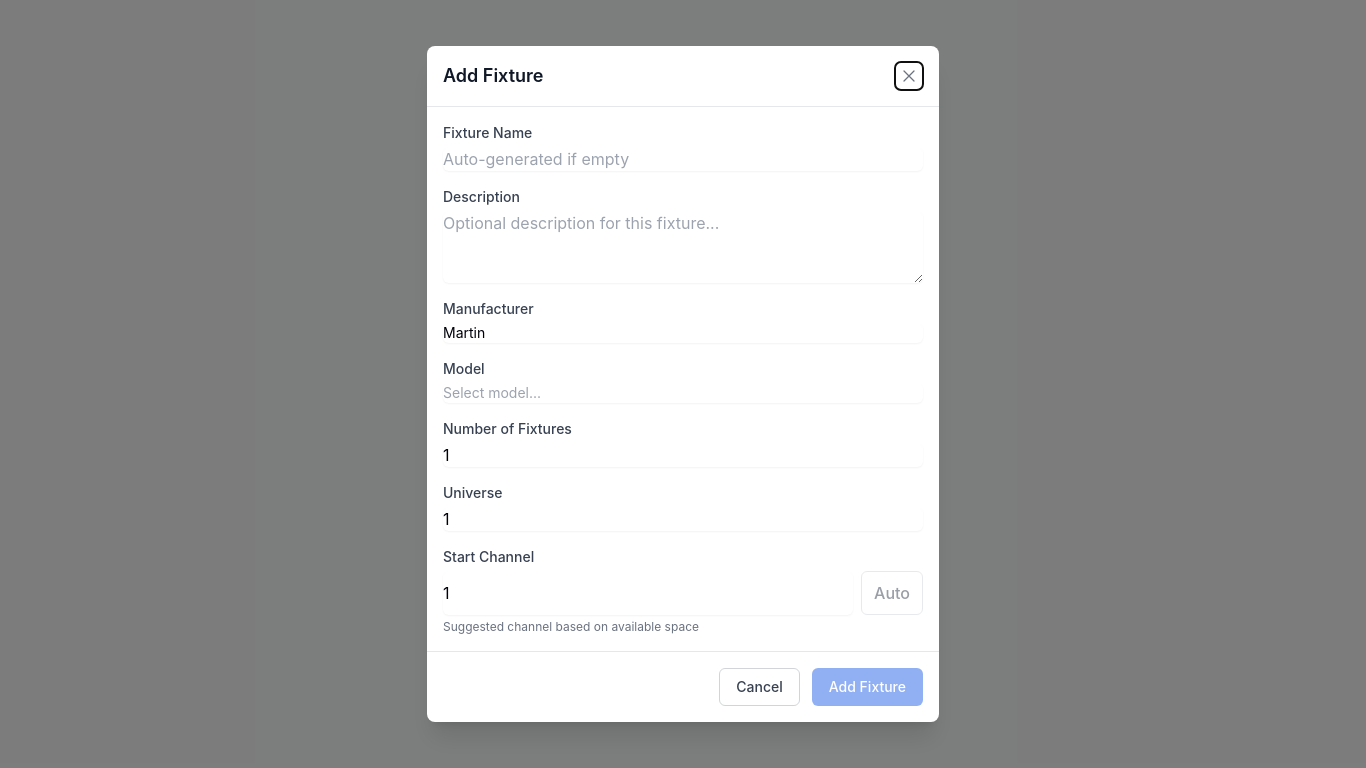
it: AddFixtureModal fixture sources › when the stored precedence arrives late › does not overwrite a model the user picked while the precedence was loading
The width and height of the screenshot is (1366, 768).
What coordinates should you click on to do the following:
click the field labelled "Model"
I would click on:
 (683, 393)
Its box is [443,383,923,403].
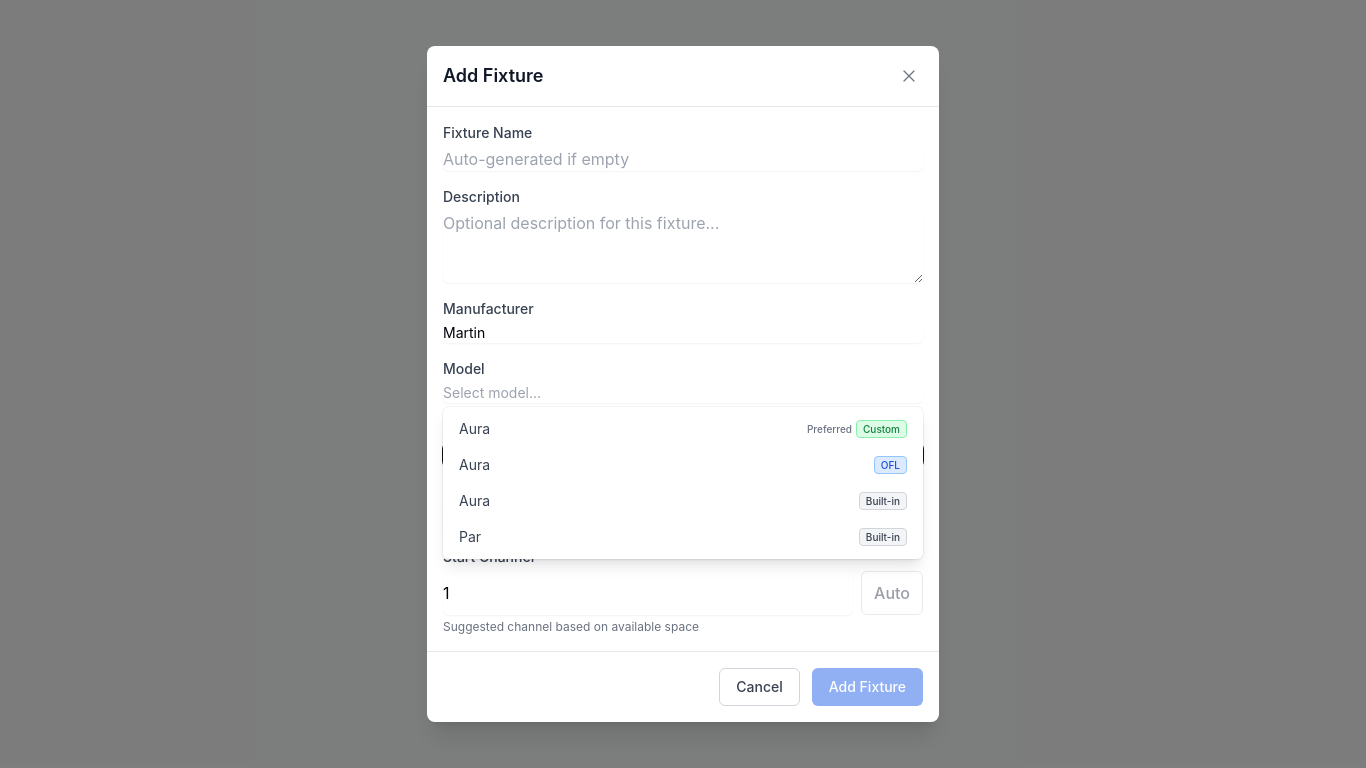
Expected: the button "Aura Preferred Custom" is shown, [443,411,923,447]
What coordinates should you click on to do the following:
click the button named "Aura Source: Built-in"
I would click on:
 (475, 500)
Its box is [443,483,923,519].
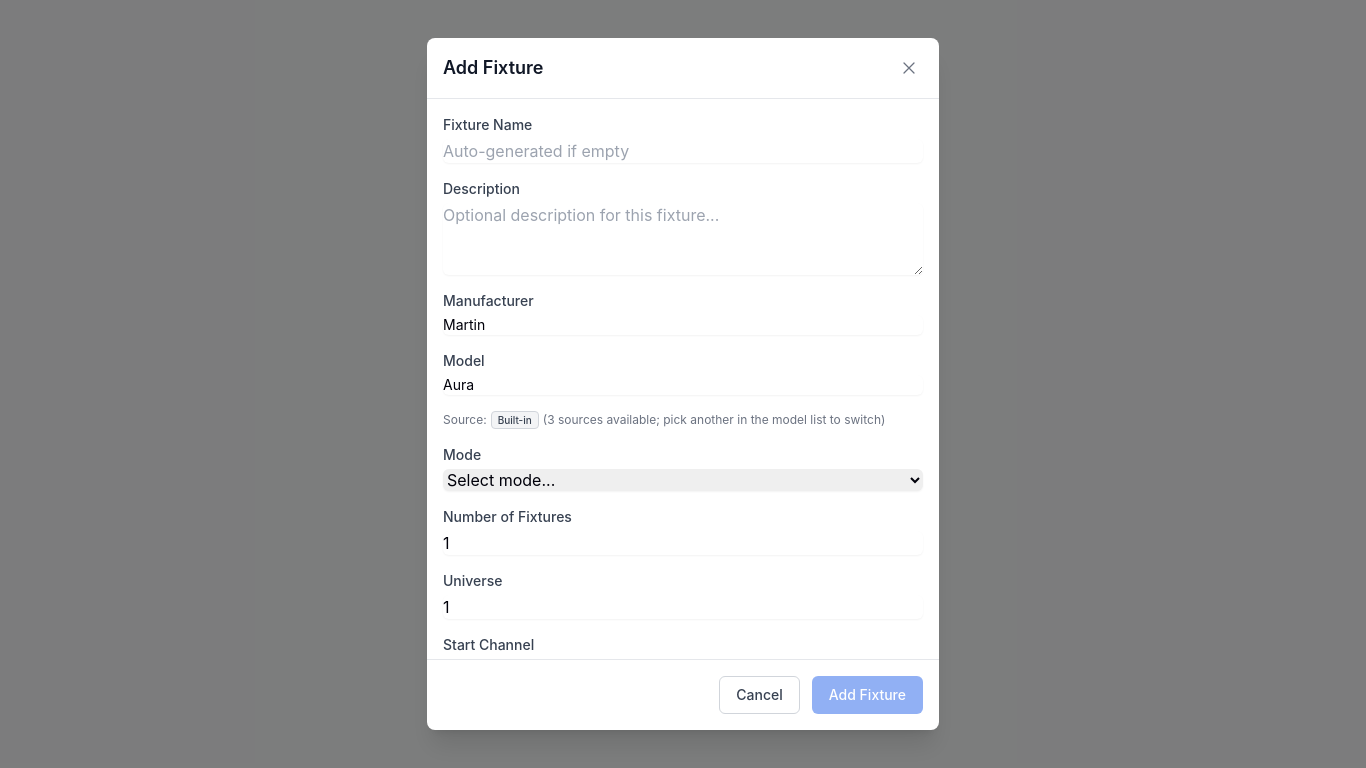
Note: Let the precedence response arrive, then confirm it was applied.
What coordinates should you click on to do the following:
click the field labelled "Model"
I would click on:
 (683, 385)
Its box is [443,375,923,395].
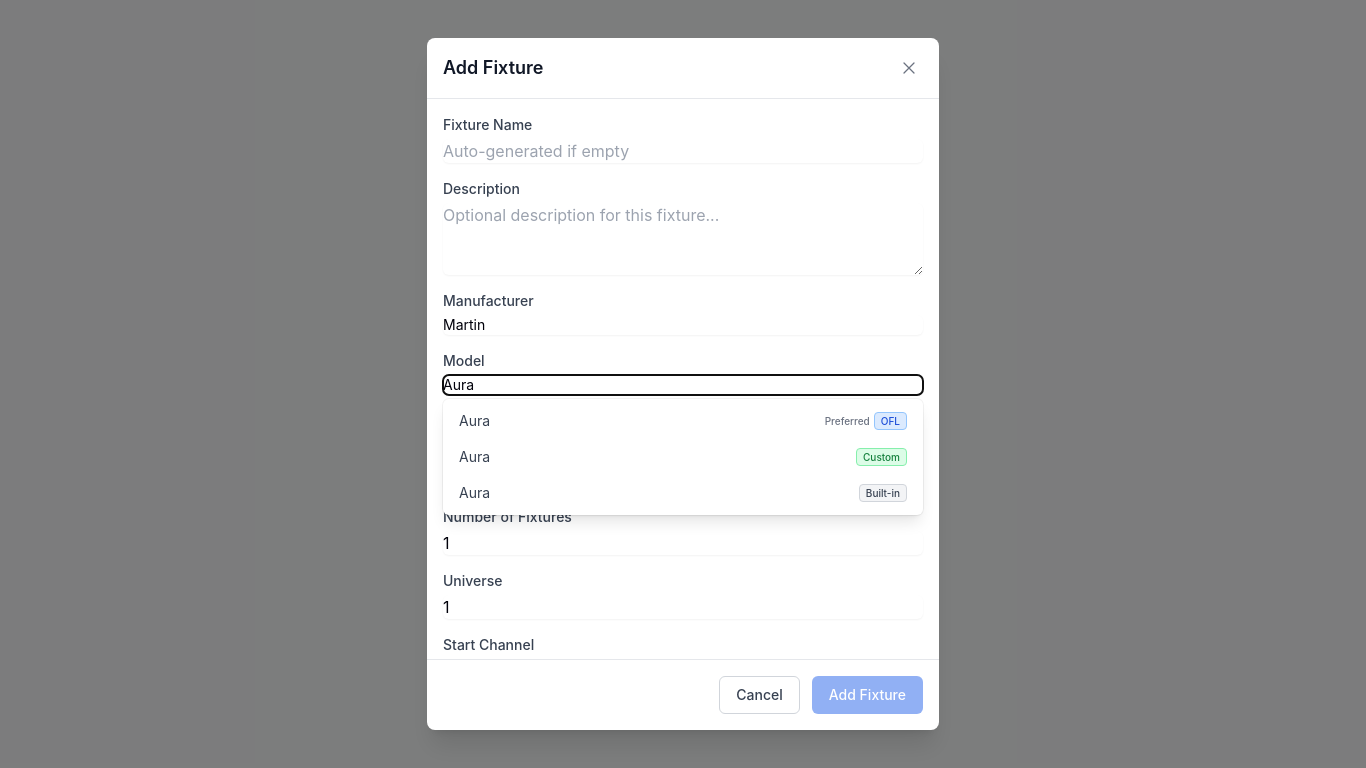
Expected: the button "Aura Preferred OFL" is shown, [443,403,923,439]
